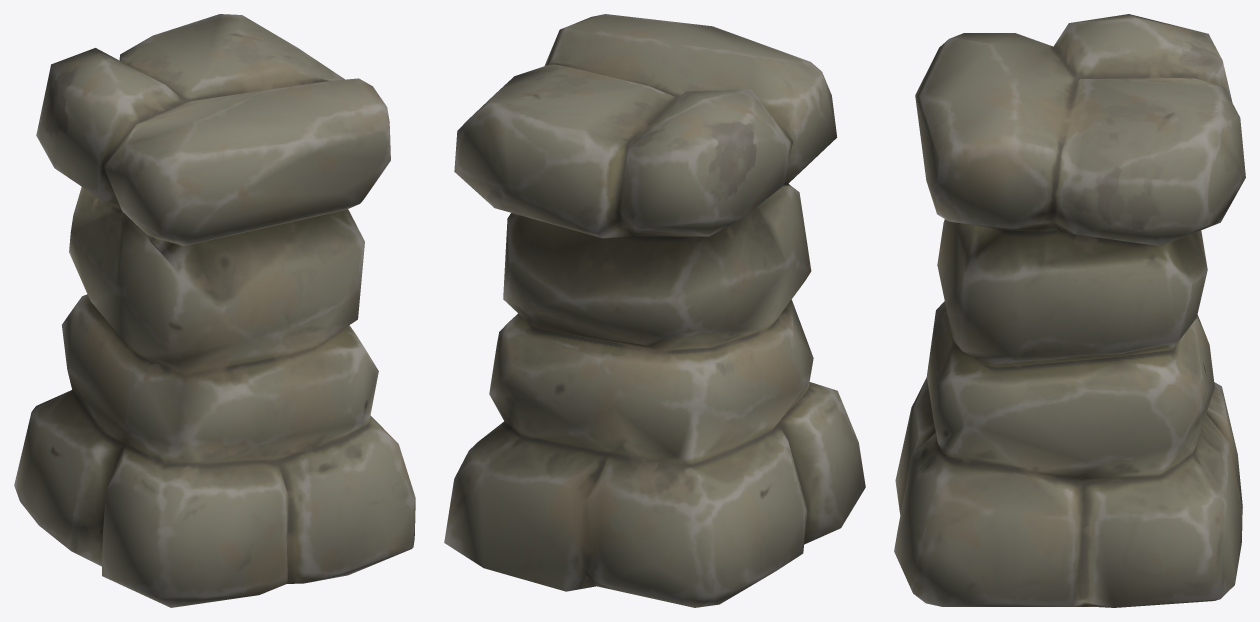
The model's file is GN_AiQiang_02.fbx.
The picture shows the model from 3 angles, left to right: view 1: azimuth 30°, elevation 25°; view 2: azimuth 150°, elevation 25°; view 3: azimuth 270°, elevation 25°; orthographic projection. The views are drawn at different scales.
Visible parts, largest first — view 1: GN_AiQiang_02; view 2: GN_AiQiang_02; view 3: GN_AiQiang_02.
Part boxes in pixels (x1,y1,x2,y2): GN_AiQiang_02: (14,14,415,607); GN_AiQiang_02: (444,14,865,607); GN_AiQiang_02: (894,14,1245,607).
Bounding box in the file's own units: 71.25 × 107 × 70.75.
